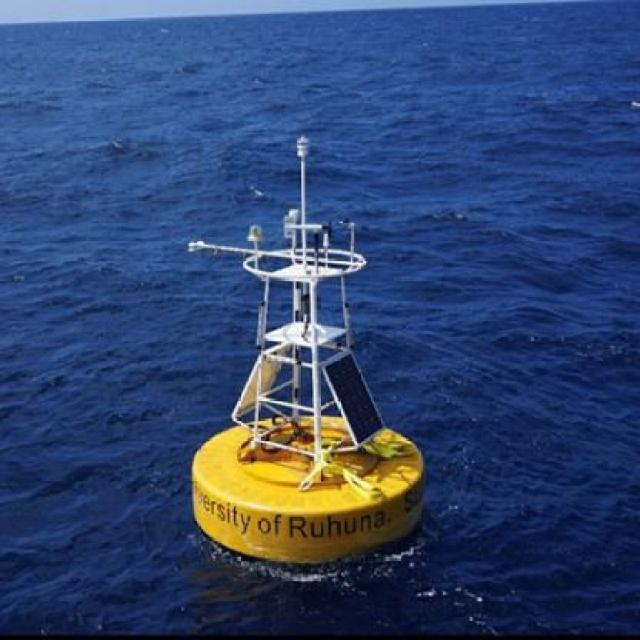buoy: (171, 130, 437, 572)
